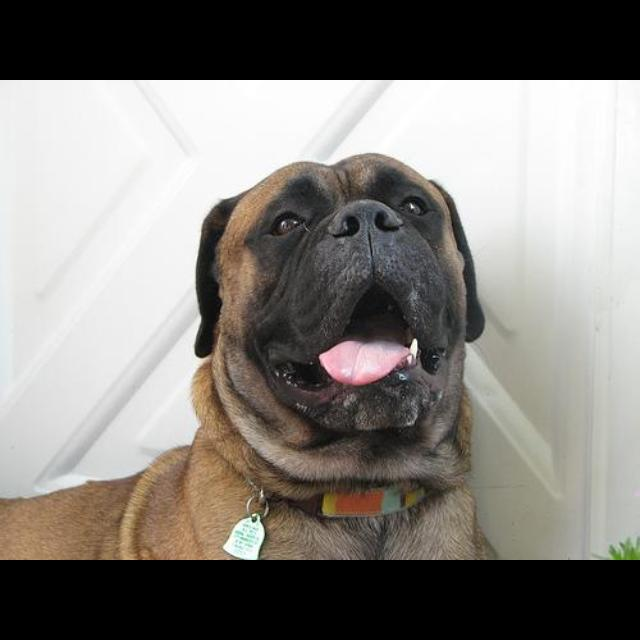bullmastiff: (2, 152, 501, 560)
